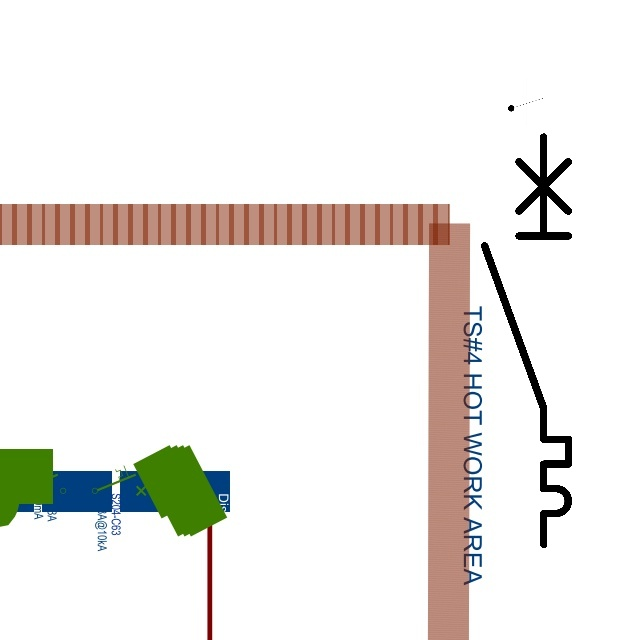interruptor_termomagnetico: (474, 126, 579, 555)
